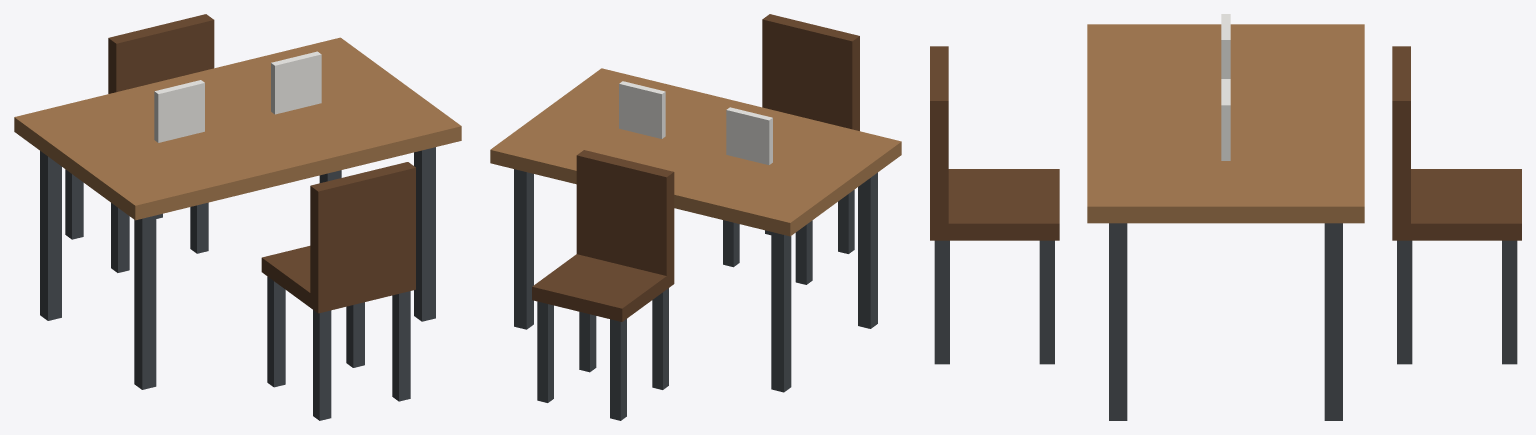
The model's file is interior.dining-table.glb.
3 views of the same model, side by side, from view 1: azimuth 30°, elevation 25°; view 2: azimuth 150°, elevation 25°; view 3: azimuth 270°, elevation 25° (orthographic). The views are drawn at different scales.
Visible parts, largest first — view 1: interior.dining-table; view 2: interior.dining-table; view 3: interior.dining-table.
Boxes of the visible parts, bbox=[...] form: interior.dining-table: bbox=[14, 14, 461, 420]; interior.dining-table: bbox=[490, 14, 901, 420]; interior.dining-table: bbox=[930, 14, 1521, 420].
Size of the model in its own units: 1.4 by 1 by 1.92.
